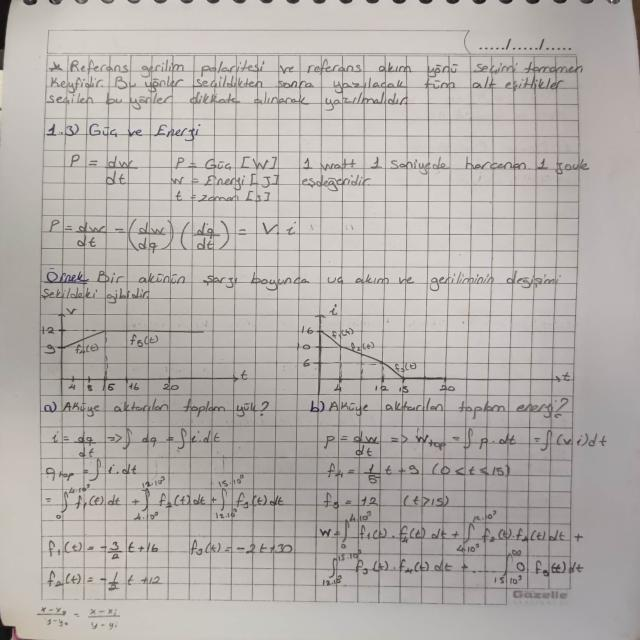image: (294, 302, 573, 395), (36, 304, 255, 392)
math: (316, 509, 590, 553), (43, 476, 289, 523), (315, 548, 588, 588), (43, 218, 300, 255), (321, 427, 609, 459), (43, 534, 304, 561), (322, 460, 512, 485), (45, 428, 224, 453), (316, 488, 450, 512), (44, 568, 169, 593), (34, 602, 125, 632), (68, 152, 140, 186), (41, 457, 142, 480)
text: (46, 57, 588, 107), (38, 266, 565, 301), (297, 154, 592, 189), (302, 397, 576, 418), (172, 152, 279, 205), (41, 396, 275, 418), (46, 122, 203, 140)
